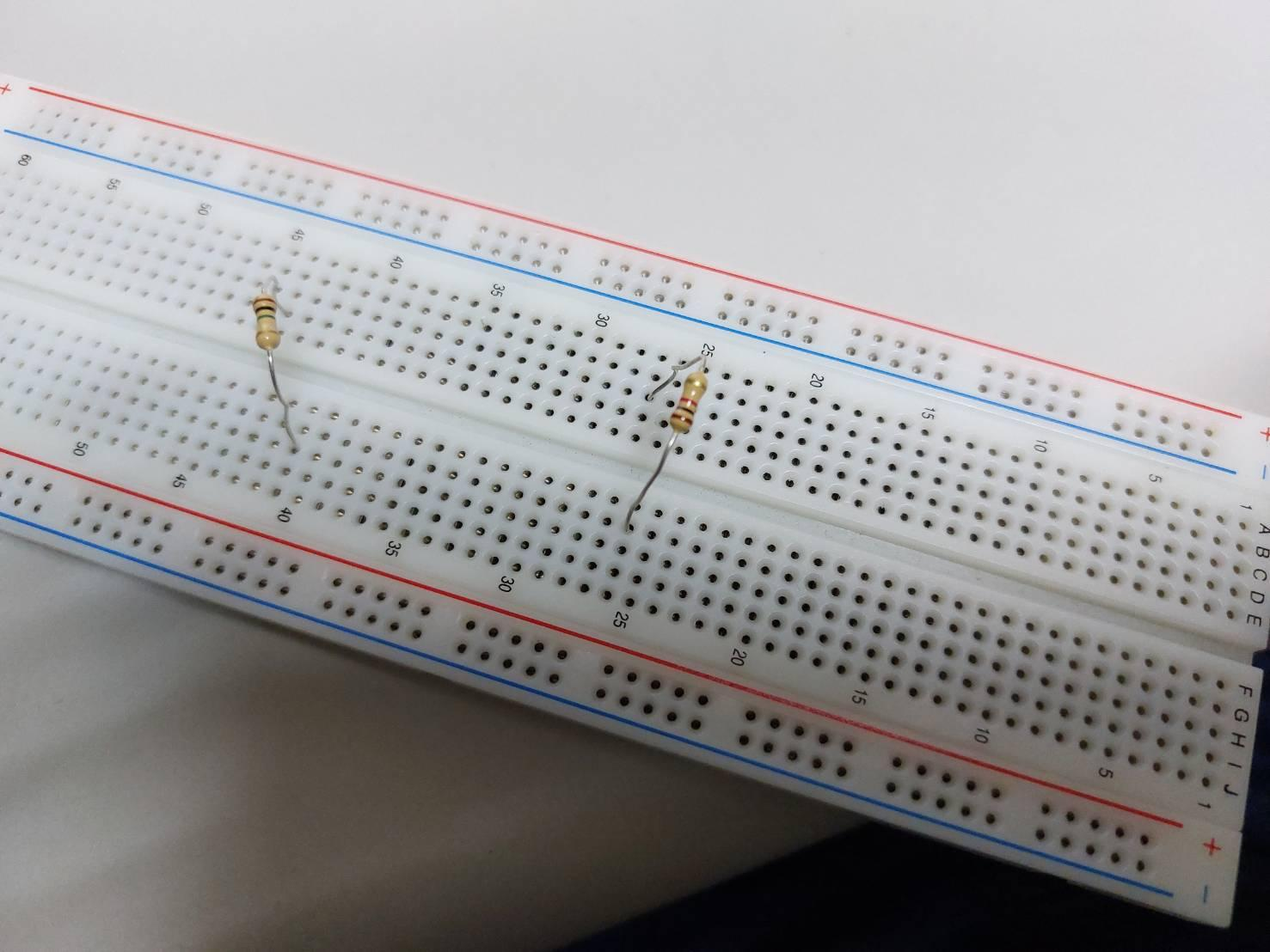resistor: (667, 368, 710, 434), (248, 293, 281, 355)
